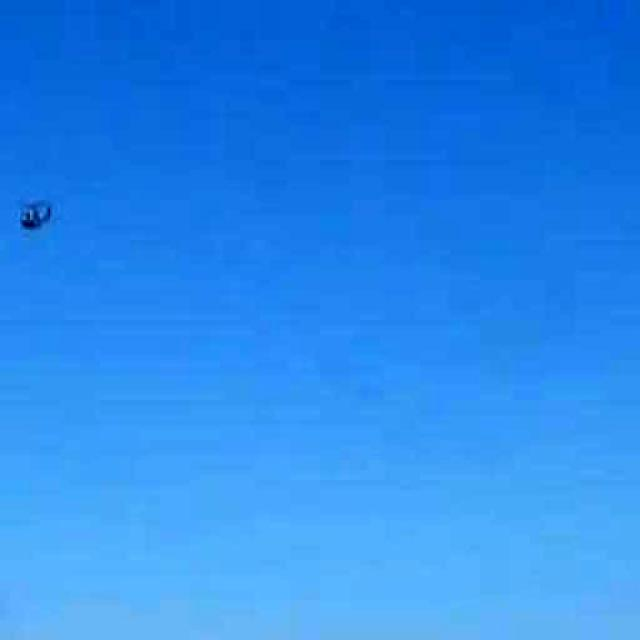drone: (0, 176, 74, 254)
